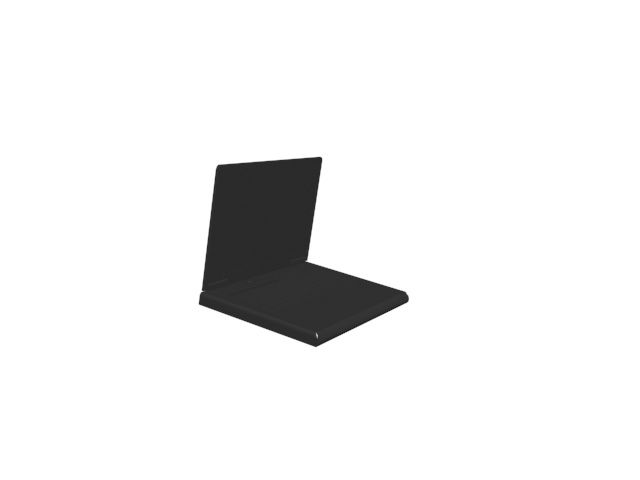laptop_computer: (193, 153, 416, 352)
